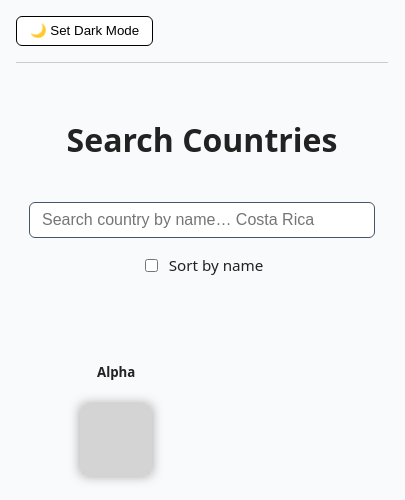
it: Home › switches to search results when typing ≥ 2 characters
Expected: the heading "Alpha" is shown, [97, 363, 135, 381]
# Type 2+ chars → should switch to search list
In the field named "search countries": (202, 220) [29, 202, 375, 238], type "co"
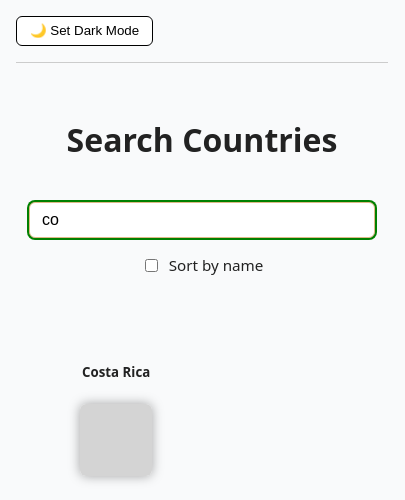
Now the heading "Costa Rica" is shown, box [82, 363, 150, 381]
